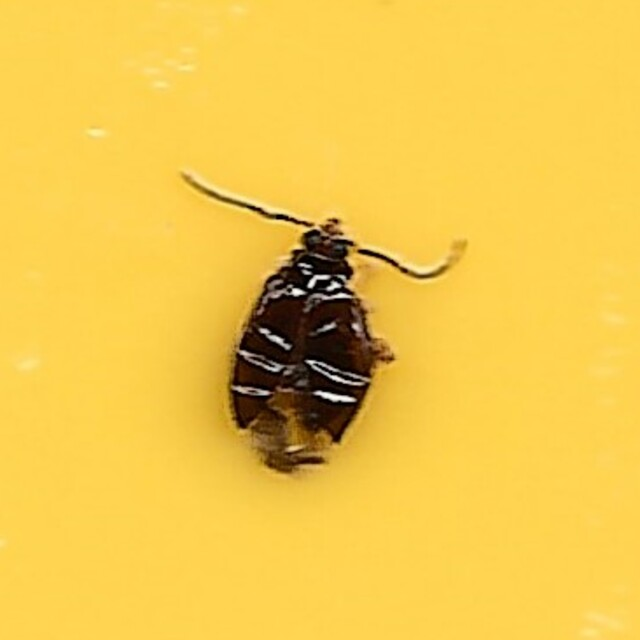Coleoptera: (175, 168, 465, 472)
